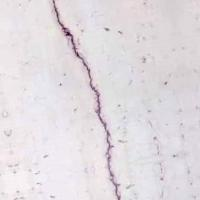crack: (53, 0, 142, 199)
